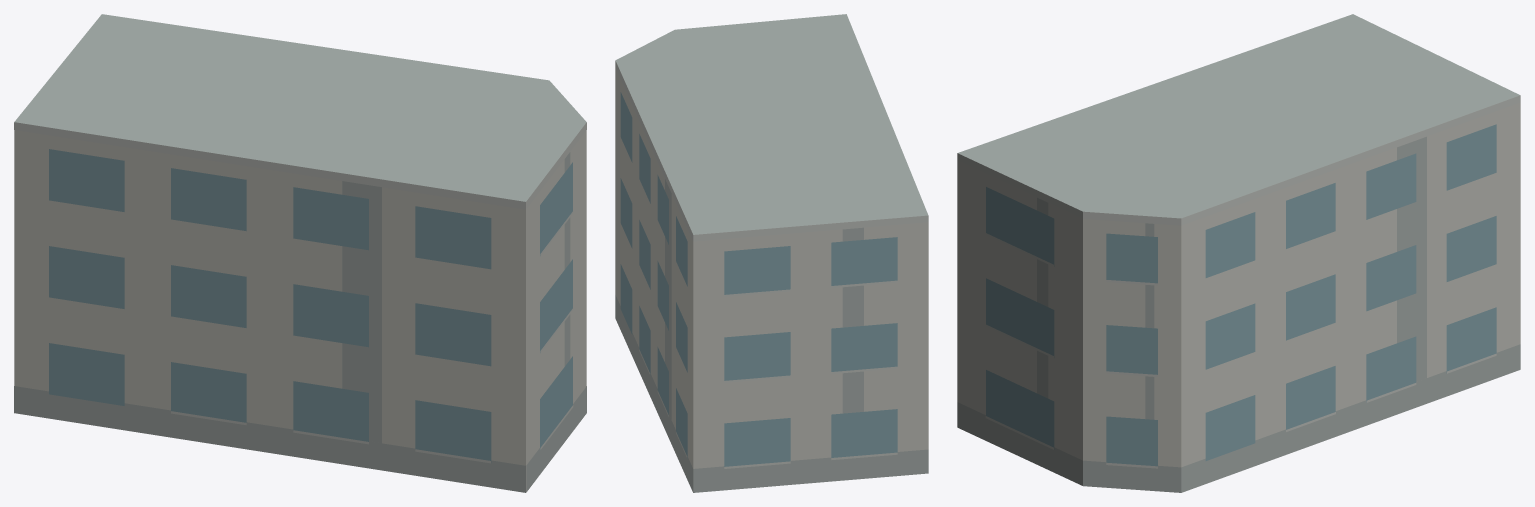
The model's file is survey-upis-32786473.glb.
The picture shows the model from 3 angles, left to right: view 1: azimuth 30°, elevation 25°; view 2: azimuth 150°, elevation 25°; view 3: azimuth 270°, elevation 25°; orthographic projection. The views are drawn at different scales.
Parts seen in each view (by area): view 1: survey-upis-32786473.tmp; view 2: survey-upis-32786473.tmp; view 3: survey-upis-32786473.tmp.
Part boxes in pixels (x1=…): survey-upis-32786473.tmp: x1=14, y1=14, x2=586, y2=492; survey-upis-32786473.tmp: x1=615, y1=14, x2=928, y2=492; survey-upis-32786473.tmp: x1=957, y1=14, x2=1520, y2=492.
Bounding box in the file's own units: 14.63 × 9.15 × 17.03.
